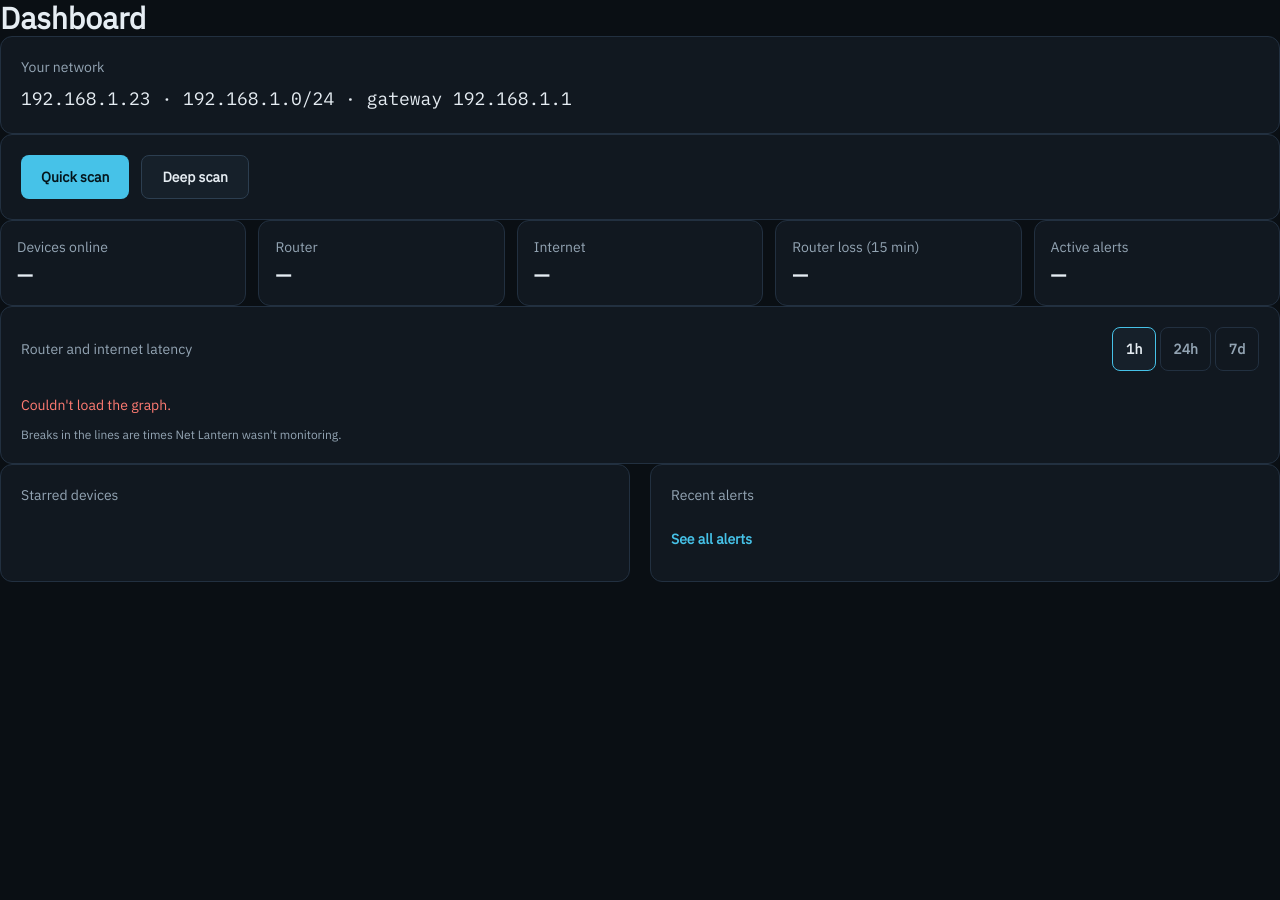
Dashboard › deep scan asks for consent first, then starts
expect the text "192.168.1.23 · 192.168.1.0/24 · gateway 192.168.1.1" is shown: met, box [21,87,572,110]
Click the button "Deep scan".
click(195, 177)  # box [141,155,249,199]
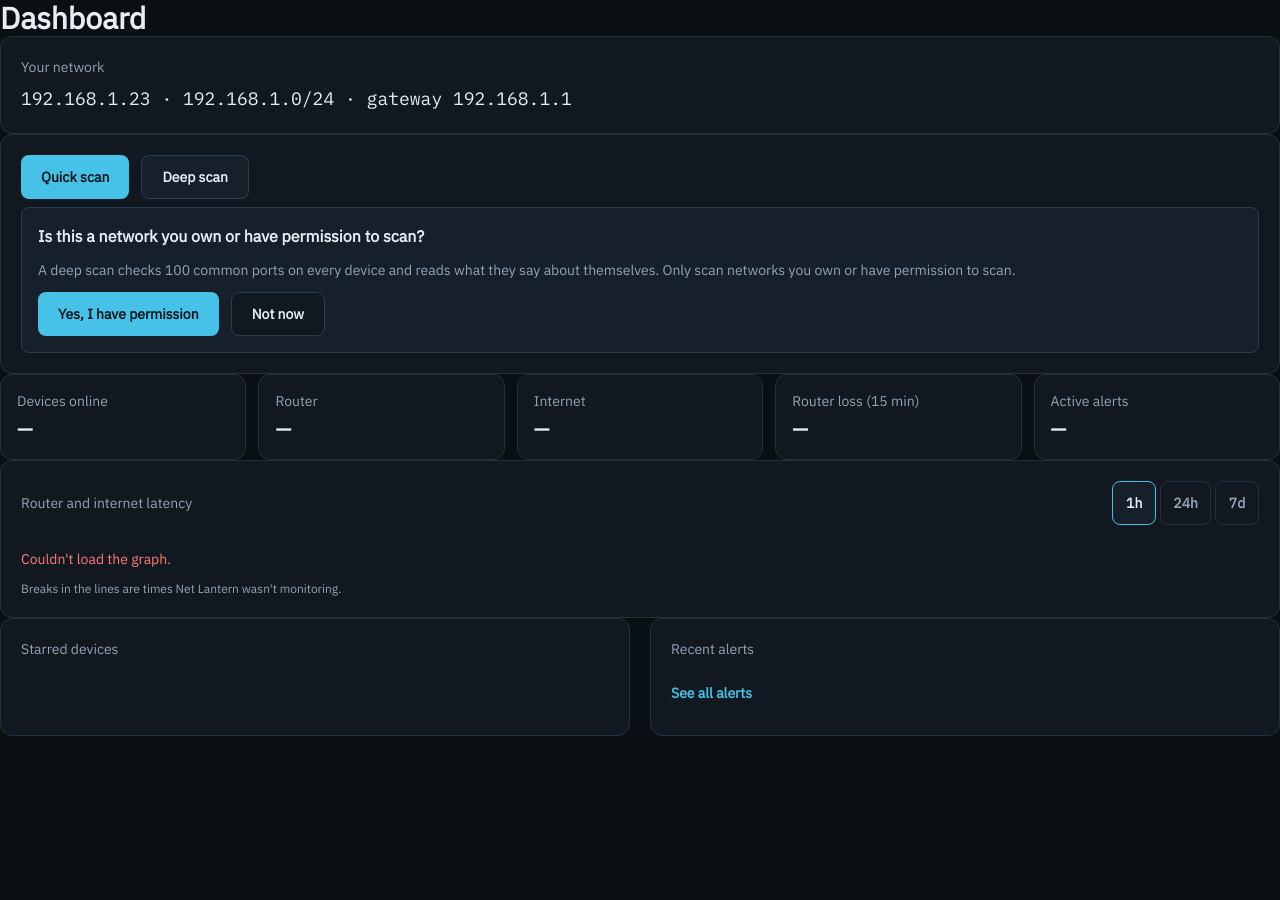
expect the dialog "Is this a network you own or have permission to scan?" shows "A deep scan checks 100 common ports on every device": met, box [38,261,1016,279]
Click the button "Yes, I have permission".
click(128, 314)  # box [38,292,219,336]
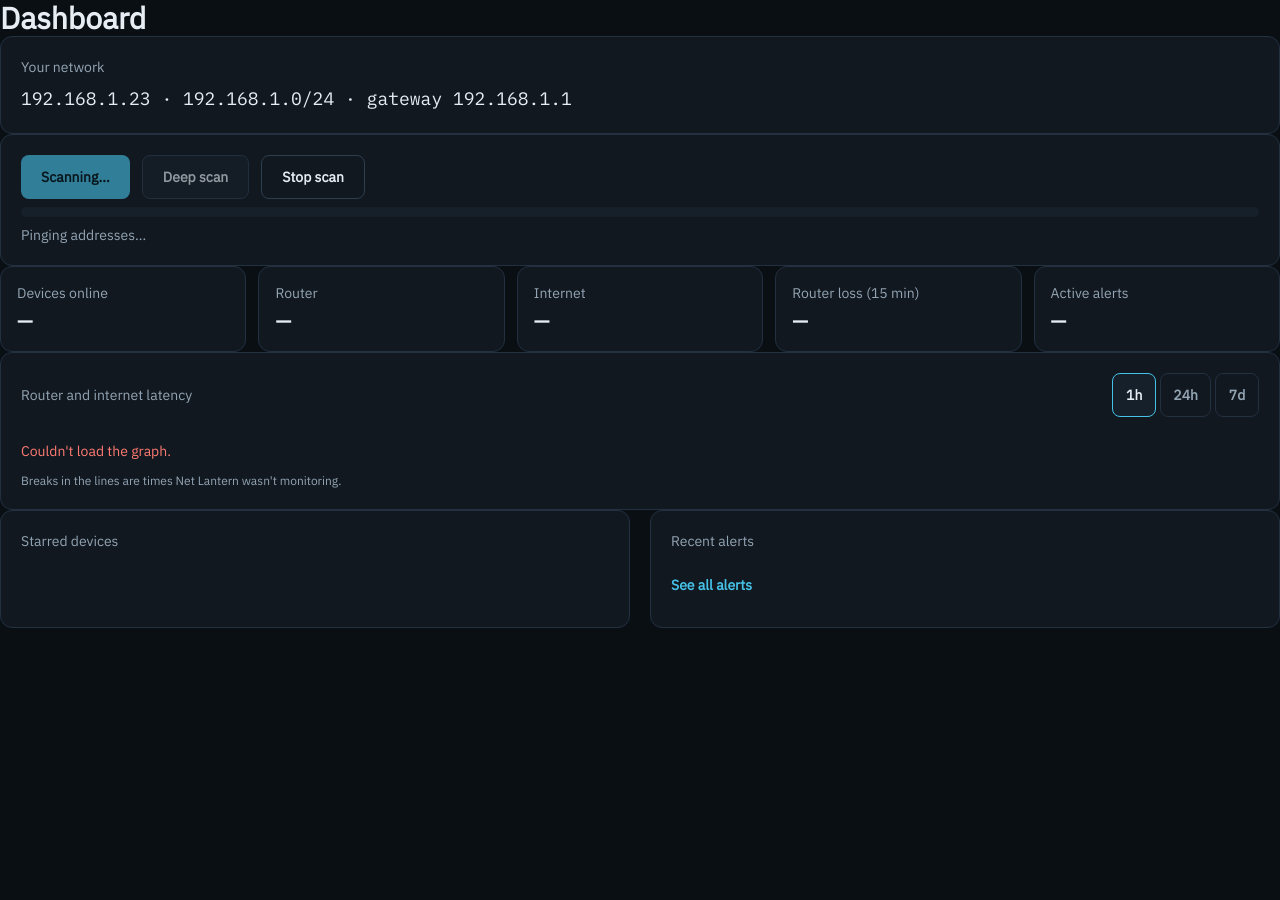
expect the dialog is gone: met
